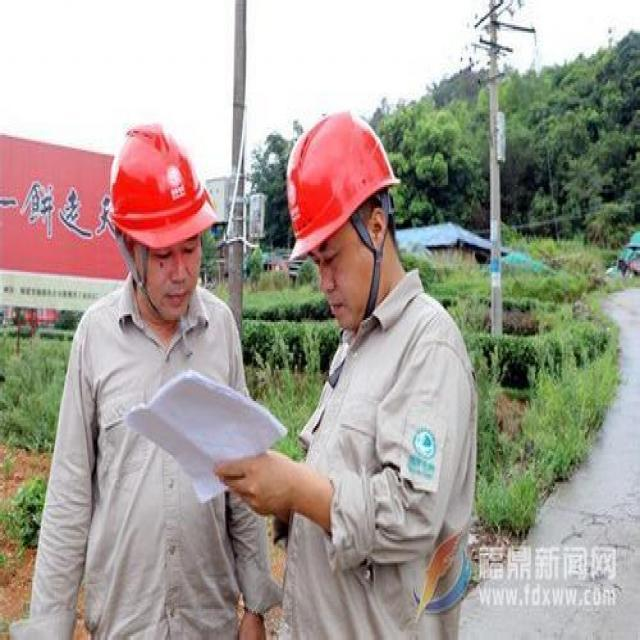hat: (269, 87, 416, 336), (98, 98, 226, 336)
